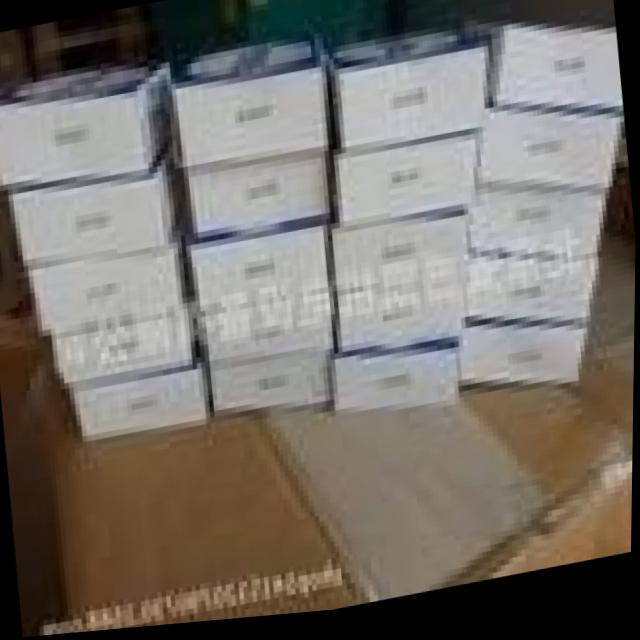box: (4, 149, 194, 266), (0, 65, 173, 191), (314, 36, 489, 154), (172, 45, 325, 170), (464, 33, 624, 122), (336, 141, 483, 234), (28, 251, 183, 338), (186, 224, 333, 315), (479, 111, 620, 204), (332, 216, 477, 297), (188, 163, 330, 237), (473, 192, 610, 268), (70, 372, 208, 444), (55, 311, 193, 383), (338, 285, 471, 359), (466, 262, 603, 333), (206, 293, 335, 364), (459, 330, 592, 397), (336, 349, 464, 416), (207, 360, 335, 415)
